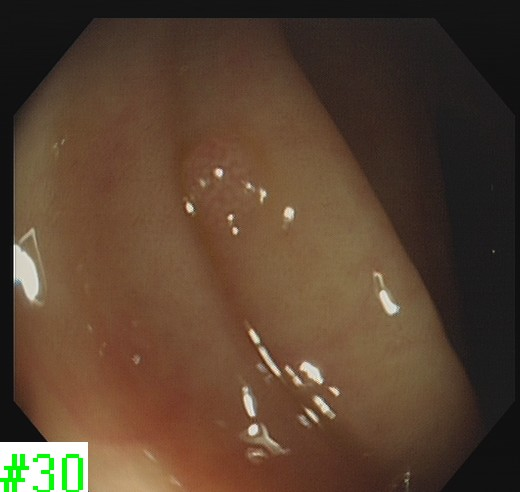adenoma: (175, 135, 261, 236)
